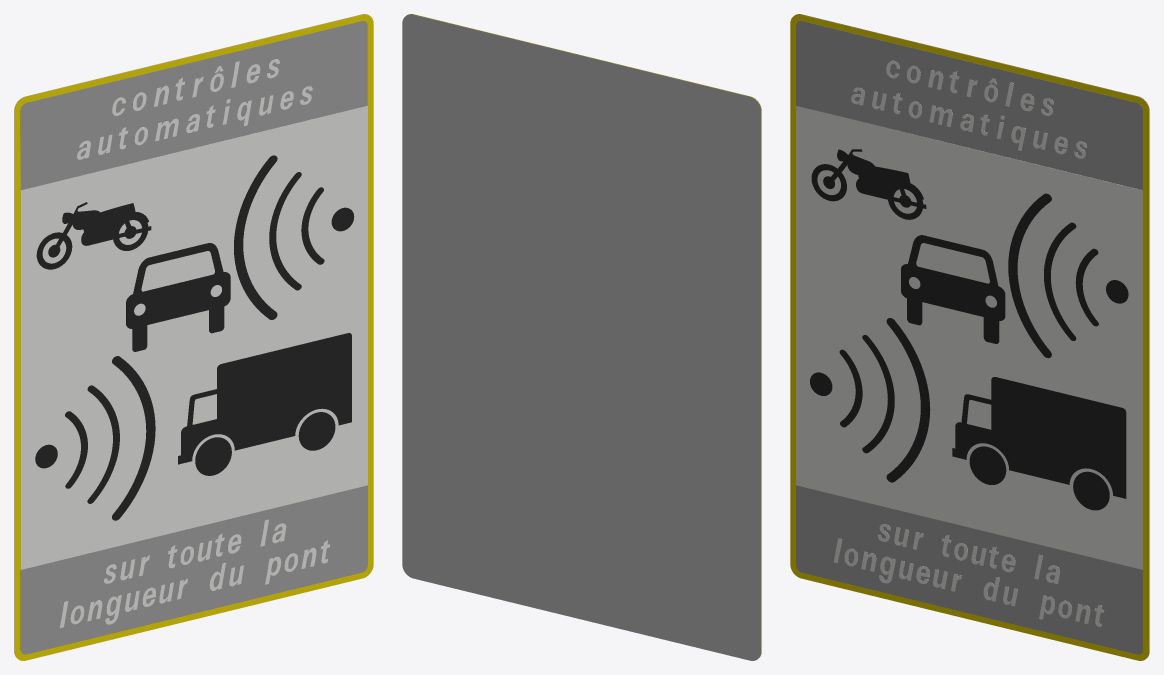
3 views of the same model, side by side, from view 1: azimuth 30°, elevation 25°; view 2: azimuth 150°, elevation 25°; view 3: azimuth 330°, elevation 25° (orthographic).
Visible parts, largest first — view 1: SR3c3_p02, SR3c3_p01, SR3c3_p05, SR3c3_p00, SR3c3_p03, SR3c3_p07, SR3c3_p04, SR3c3_p06, SR3c3_dos; view 2: SR3c3_dos, SR3c3_p00; view 3: SR3c3_p02, SR3c3_p01, SR3c3_p05, SR3c3_p00, SR3c3_p03, SR3c3_p07, SR3c3_p04, SR3c3_p06, SR3c3_dos.
Part boxes in pixels (x1,y1,x2,y2): SR3c3_p02: [21, 106, 367, 569]; SR3c3_p01: [20, 21, 367, 654]; SR3c3_p05: [178, 155, 354, 475]; SR3c3_p00: [14, 14, 373, 660]; SR3c3_p03: [36, 202, 230, 503]; SR3c3_p07: [60, 519, 330, 627]; SR3c3_p04: [35, 172, 301, 520]; SR3c3_p06: [77, 59, 312, 159]; SR3c3_dos: [14, 14, 367, 656]; SR3c3_dos: [402, 14, 761, 660]; SR3c3_p00: [408, 14, 761, 656]; SR3c3_p02: [796, 106, 1142, 569]; SR3c3_p01: [796, 21, 1142, 654]; SR3c3_p05: [952, 193, 1128, 510]; SR3c3_p00: [790, 14, 1149, 660]; SR3c3_p03: [811, 149, 1005, 453]; SR3c3_p07: [833, 524, 1103, 626]; SR3c3_p04: [810, 222, 1076, 482]; SR3c3_p06: [851, 60, 1086, 158]; SR3c3_dos: [796, 14, 1149, 656].
Bounding box in the file's own units: 0.7 × 1.05 × 0.0047.
